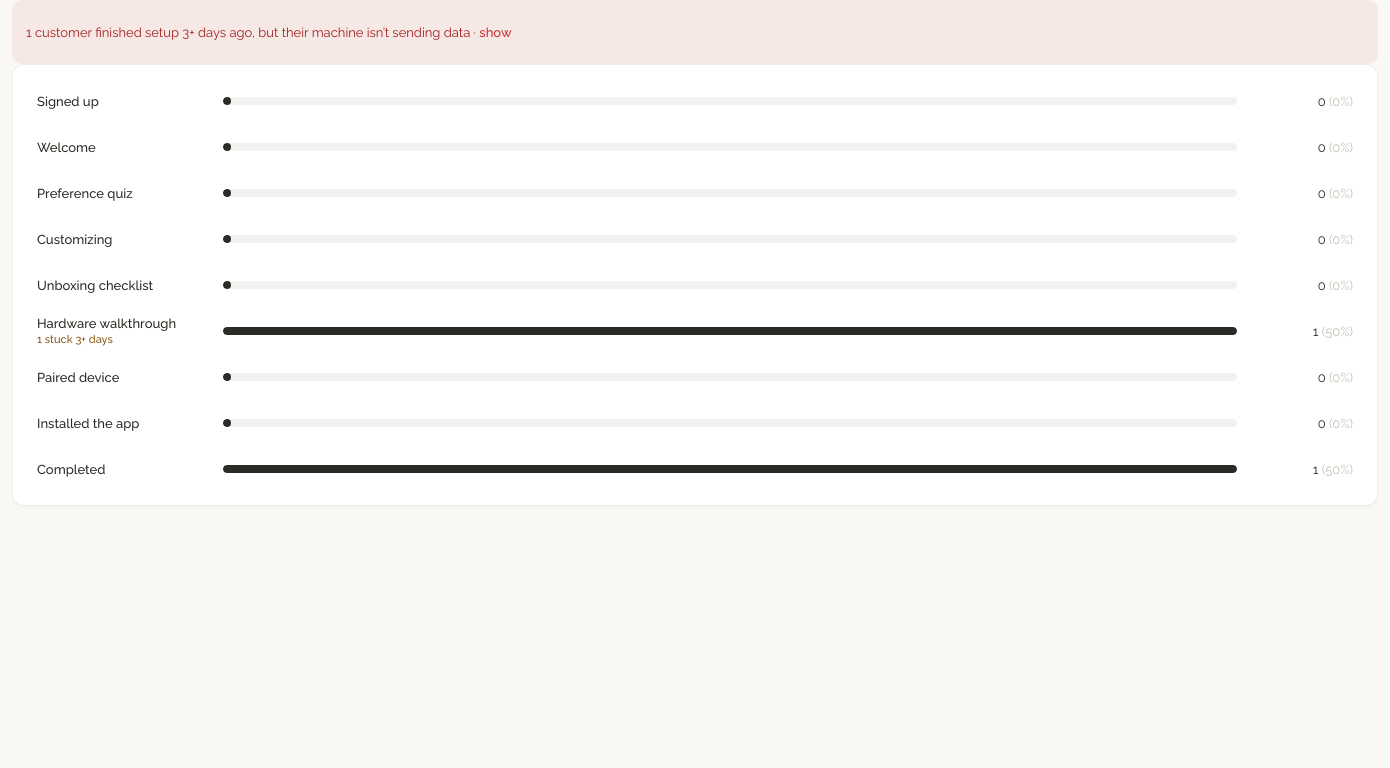
Test: OnboardingTab › opens a step to list who is on it, with contact details and wait time
Click the button "Hardware walkthrough 1 stuck 3+ days 1 (50%)". click: {"x": 695, "y": 331}
box: x1=29 y1=309 x2=1361 y2=353
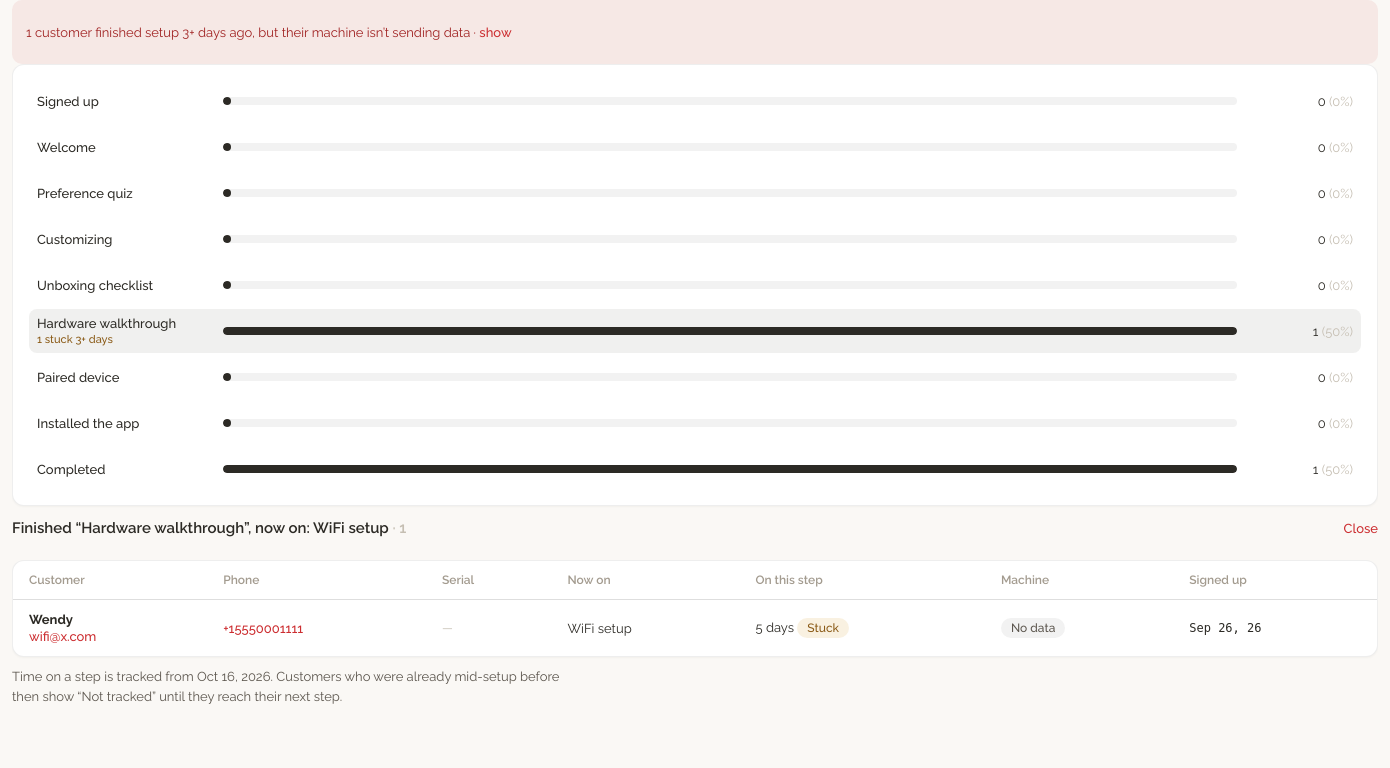
Expected: the heading "Finished “Hardware walkthrough”, now on: WiFi setup · 1" is shown, x1=12 y1=518 x2=406 y2=536
Expected: the text "Wendy" is shown, x1=29 y1=612 x2=73 y2=627
Expected: the text "5 days" is shown, x1=740 y1=600 x2=985 y2=656
Click the button "Hardware walkthrough 1 stuck 3+ days 1 (50%)". click: {"x": 695, "y": 331}
box: x1=29 y1=309 x2=1361 y2=353
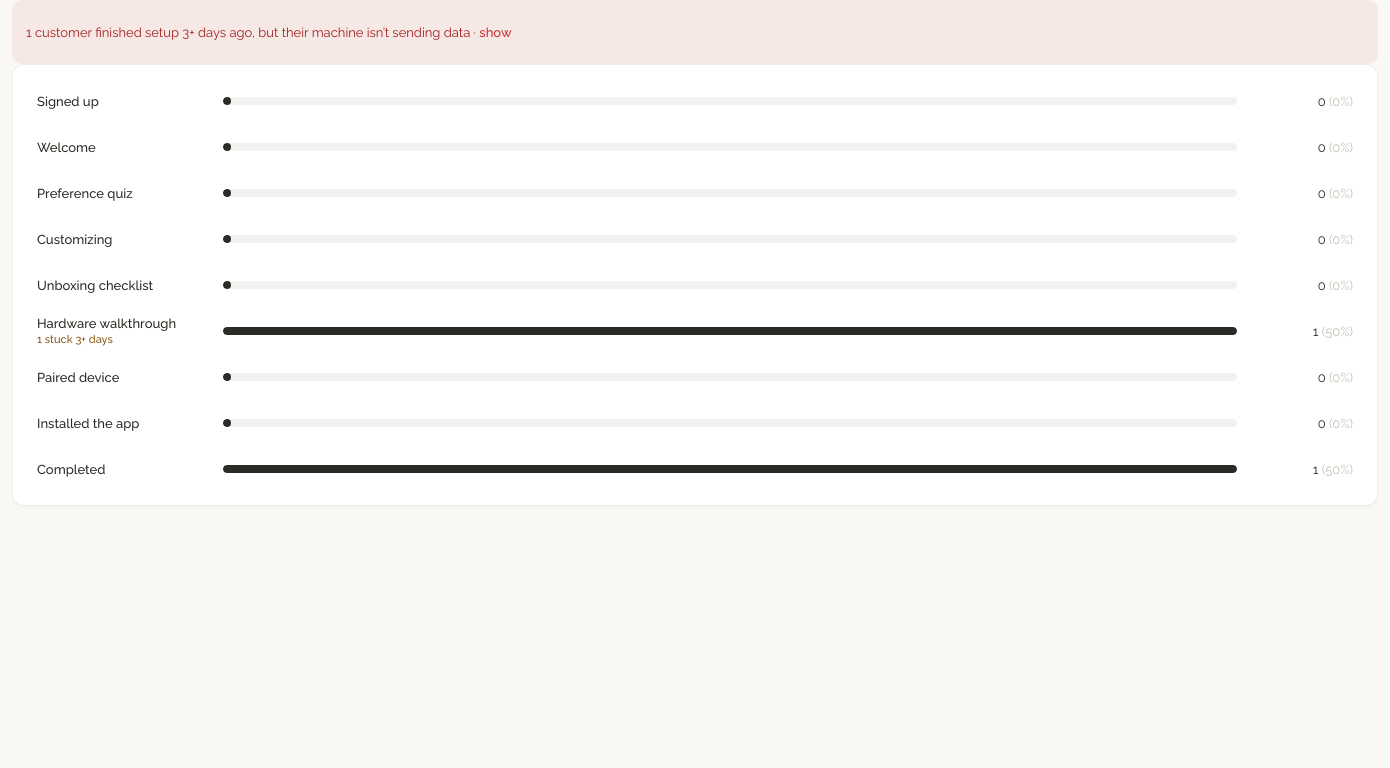
Expected: the table is gone
